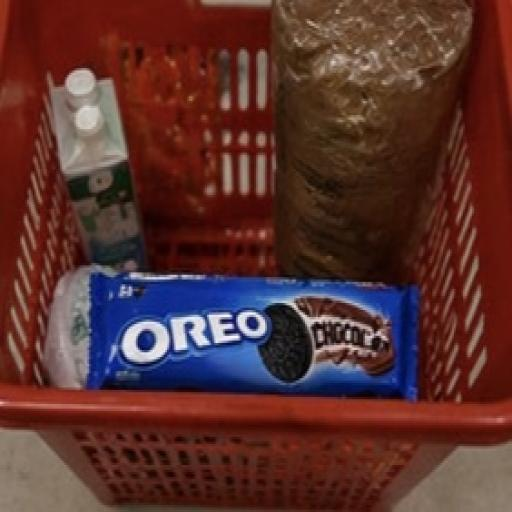oreo: (34, 203, 467, 453)
